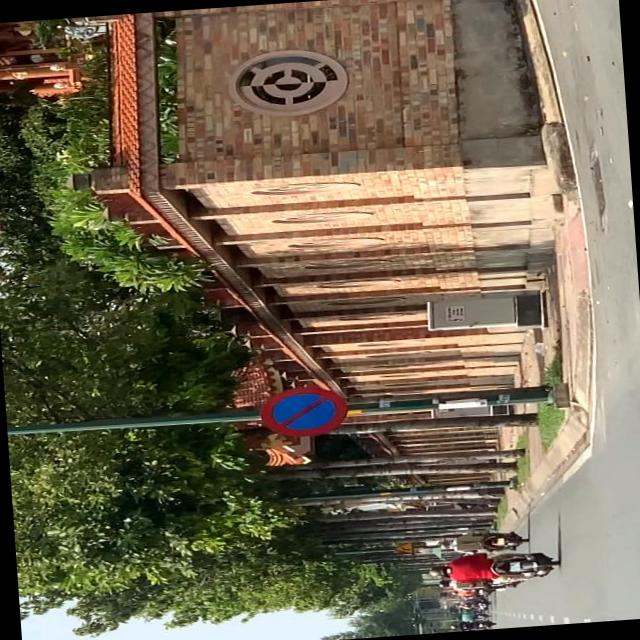P-131a: (260, 386, 348, 437)
